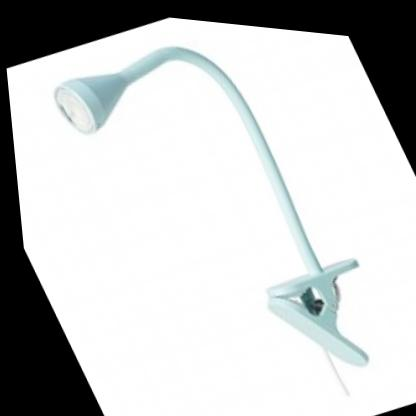Lamp: (18, 1, 416, 416)
